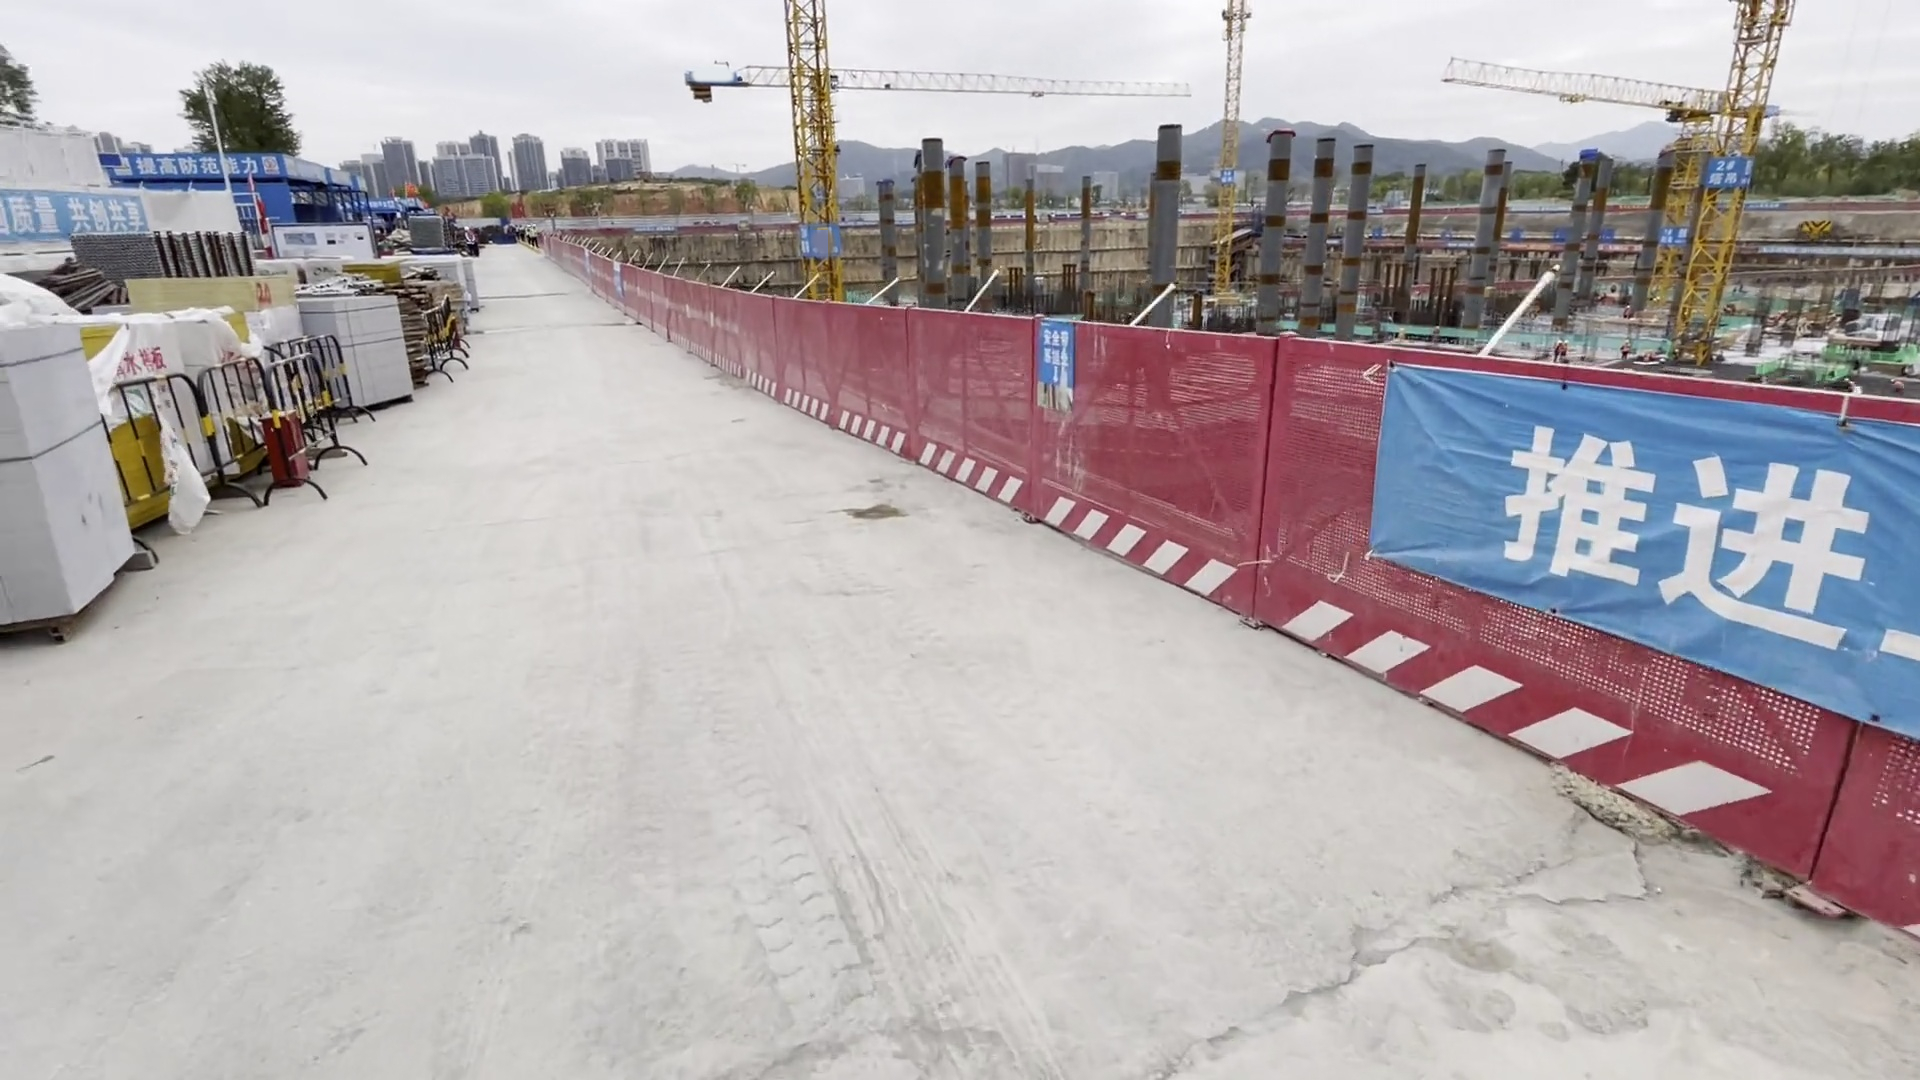brick: (1, 315, 152, 634), (295, 293, 417, 423)
fence: (516, 219, 1382, 695)
slogan: (1367, 396, 1920, 644), (1, 193, 154, 241), (1030, 322, 1096, 414), (125, 150, 281, 189)
